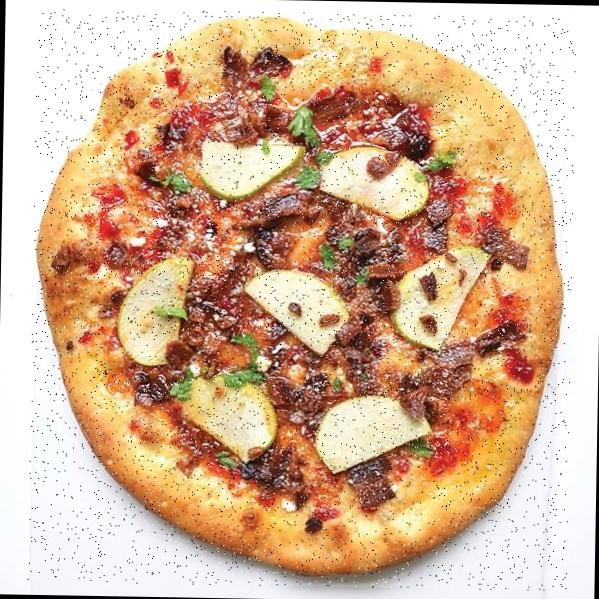Pizza: (28, 8, 577, 592)
